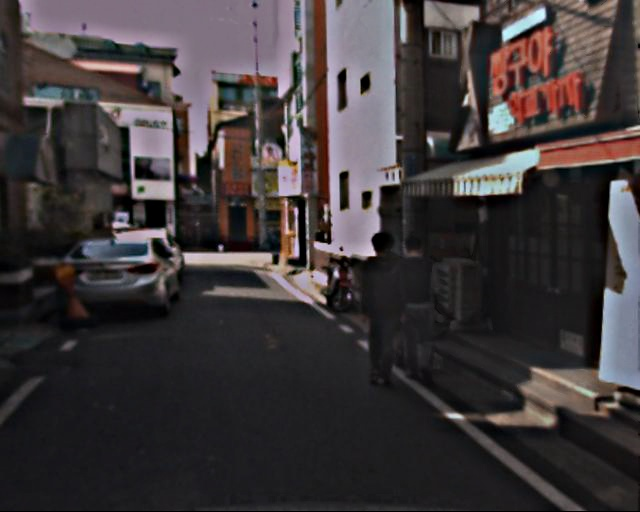person: (352, 233, 414, 384), (387, 236, 446, 380)
